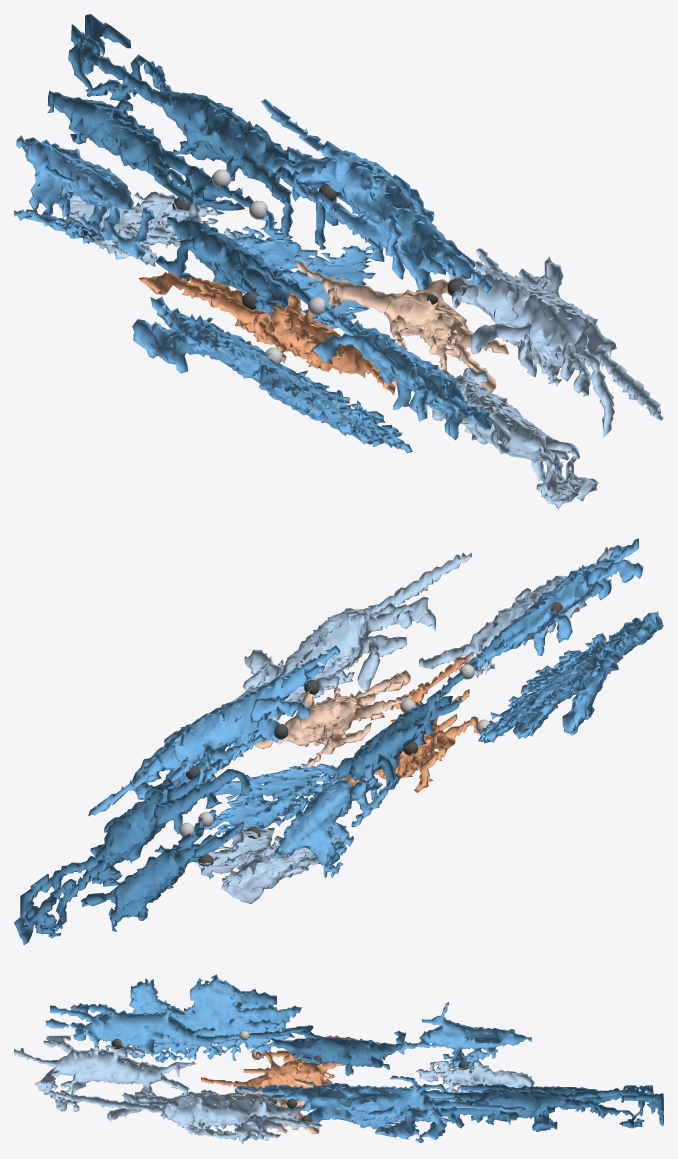
The model's file is sample_3_1_group_1.glb.
3 views of the same model, one above another, from view 1: azimuth 30°, elevation 25°; view 2: azimuth 150°, elevation 25°; view 3: azimuth 270°, elevation 25° (orthographic). The views are drawn at different scales.
Visible parts, largest first — view 1: osteocyte_13_elongated, osteocyte_8_elongated, osteocyte_7_elongated, osteocyte_14_elongated, osteocyte_17_elongated, osteocyte_5_elongated, osteocyte_6_round, osteocyte_27_elongated, osteocyte_10_elongated, osteocyte_2_round, osteocyte_12_elongated, osteocyte_3_elongated; view 2: osteocyte_13_elongated, osteocyte_7_elongated, osteocyte_8_elongated, osteocyte_14_elongated, osteocyte_27_elongated, osteocyte_17_elongated, osteocyte_2_round, osteocyte_3_elongated, osteocyte_5_elongated, osteocyte_12_elongated, osteocyte_6_round, osteocyte_10_elongated; view 3: osteocyte_13_elongated, osteocyte_14_elongated, osteocyte_8_elongated, osteocyte_7_elongated, osteocyte_10_elongated, osteocyte_27_elongated, osteocyte_12_elongated, osteocyte_17_elongated, osteocyte_6_round, osteocyte_3_elongated, osteocyte_5_elongated, osteocyte_2_round.
Boxes of the visible parts, x1,y1,x2,y2 form: osteocyte_13_elongated: [232, 99, 491, 328]; osteocyte_8_elongated: [448, 248, 663, 437]; osteocyte_7_elongated: [68, 14, 349, 249]; osteocyte_14_elongated: [132, 296, 412, 453]; osteocyte_17_elongated: [14, 135, 154, 259]; osteocyte_5_elongated: [47, 90, 253, 210]; osteocyte_6_round: [138, 272, 451, 395]; osteocyte_27_elongated: [313, 303, 491, 440]; osteocyte_10_elongated: [414, 368, 598, 509]; osteocyte_2_round: [296, 260, 508, 392]; osteocyte_12_elongated: [155, 217, 312, 315]; osteocyte_3_elongated: [54, 191, 237, 266]; osteocyte_13_elongated: [88, 645, 342, 834]; osteocyte_7_elongated: [14, 768, 252, 945]; osteocyte_8_elongated: [227, 552, 471, 720]; osteocyte_14_elongated: [478, 611, 663, 743]; osteocyte_27_elongated: [466, 538, 643, 670]; osteocyte_17_elongated: [274, 763, 388, 878]; osteocyte_2_round: [255, 670, 412, 767]; osteocyte_3_elongated: [197, 825, 349, 903]; osteocyte_5_elongated: [81, 817, 243, 931]; osteocyte_12_elongated: [329, 671, 464, 789]; osteocyte_6_round: [341, 652, 481, 792]; osteocyte_10_elongated: [419, 546, 615, 677]; osteocyte_13_elongated: [237, 1075, 525, 1142]; osteocyte_14_elongated: [105, 974, 302, 1062]; osteocyte_8_elongated: [54, 1089, 322, 1144]; osteocyte_7_elongated: [413, 1085, 663, 1136]; osteocyte_10_elongated: [14, 1035, 195, 1111]; osteocyte_27_elongated: [45, 1003, 240, 1056]; osteocyte_12_elongated: [249, 1025, 402, 1076]; osteocyte_17_elongated: [393, 1002, 531, 1067]; osteocyte_6_round: [201, 1035, 358, 1095]; osteocyte_3_elongated: [415, 1060, 534, 1108]; osteocyte_5_elongated: [460, 1083, 623, 1124]; osteocyte_2_round: [233, 1078, 319, 1133].
Bounding box in the file's own units: 58.34 × 19.25 × 147.
